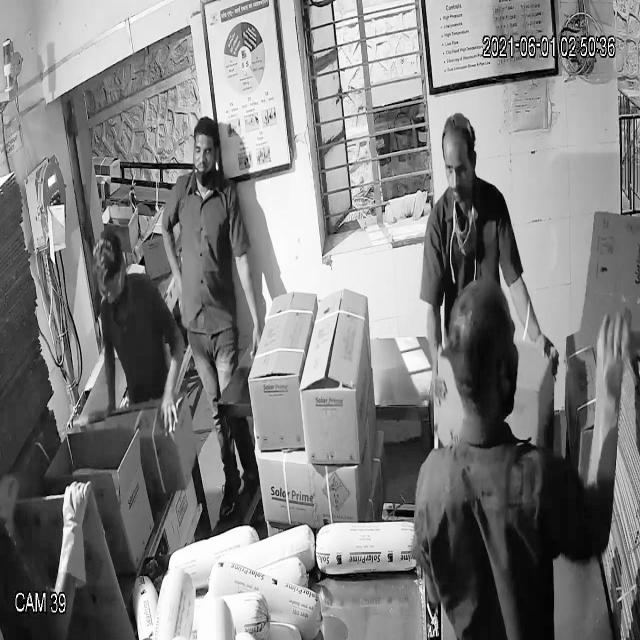glasses: (90, 265, 132, 309)
no-glass: (440, 146, 476, 188), (183, 136, 225, 170)
